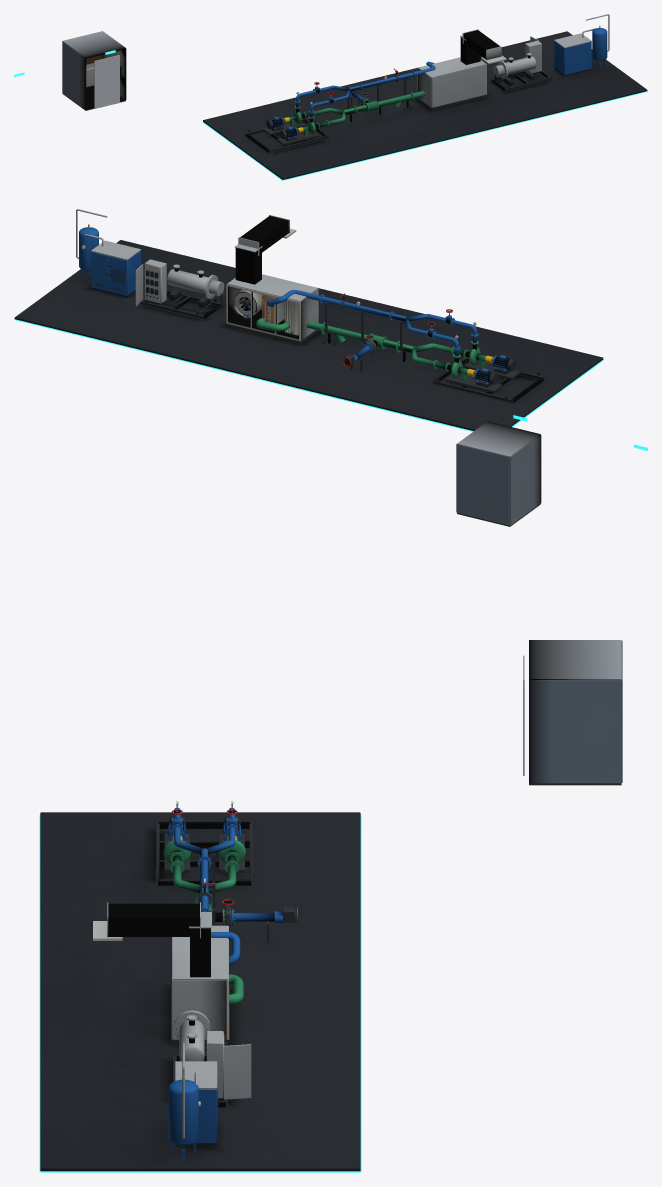
File: ex_mechanical.glb
3 renders of one model, top to bottom at view 1: azimuth 30°, elevation 25°; view 2: azimuth 150°, elevation 25°; view 3: azimuth 270°, elevation 25°, orthographic. The views are drawn at different scales.
Parts seen in each view (by area): view 1: static.plinth, static.galv, static.paint_blue, static.paint_dark, lift_cabin.steel, static.paint_grey, static.paint_green, lift_cabin.white, liftDoorL.steel, accent_strip.accent, liftDoorR.steel, lift_cabin.stone_dark; view 2: static.plinth, lift_cabin.steel, static.galv, static.paint_blue, static.paint_dark, static.paint_grey, static.paint_green, lift_cabin.white, static.paint_ral, accent_strip.accent; view 3: static.plinth, lift_cabin.steel, static.galv, static.paint_blue, static.paint_grey, lift_cabin.white, static.paint_dark, static.paint_green, accent_strip.accent.
Boxes of the visible parts, box(x1,y1,x2,y2) form: static.plinth: box(203, 31, 647, 179); static.galv: box(418, 14, 609, 107); static.paint_blue: box(271, 28, 607, 139); static.paint_dark: box(245, 68, 591, 153); lift_cabin.steel: box(62, 41, 126, 109); static.paint_grey: box(493, 33, 591, 78); static.paint_green: box(289, 91, 424, 135); lift_cabin.white: box(63, 31, 125, 58); liftDoorL.steel: box(94, 58, 107, 108); accent_strip.accent: box(202, 91, 647, 180); liftDoorR.steel: box(107, 55, 119, 105); lift_cabin.stone_dark: box(62, 85, 125, 110); static.plinth: box(14, 240, 603, 430); lift_cabin.steel: box(456, 435, 541, 525); static.galv: box(76, 209, 318, 340); static.paint_blue: box(79, 227, 510, 384); static.paint_dark: box(91, 268, 544, 403); static.paint_grey: box(91, 240, 224, 306); static.paint_green: box(256, 317, 486, 380); lift_cabin.white: box(457, 421, 540, 456); static.paint_ral: box(226, 228, 300, 341); accent_strip.accent: box(14, 319, 603, 431); static.plinth: box(40, 812, 360, 1171); lift_cabin.steel: box(529, 640, 622, 783); static.galv: box(107, 902, 227, 1139); static.paint_blue: box(168, 807, 282, 1162); static.paint_grey: box(173, 1010, 251, 1099); lift_cabin.white: box(529, 640, 621, 679); static.paint_dark: box(155, 816, 295, 1146); static.paint_green: box(163, 831, 245, 1004); accent_strip.accent: box(39, 815, 361, 1172).
Size of the model in its own units: 28.32 by 3.46 by 13.85.
